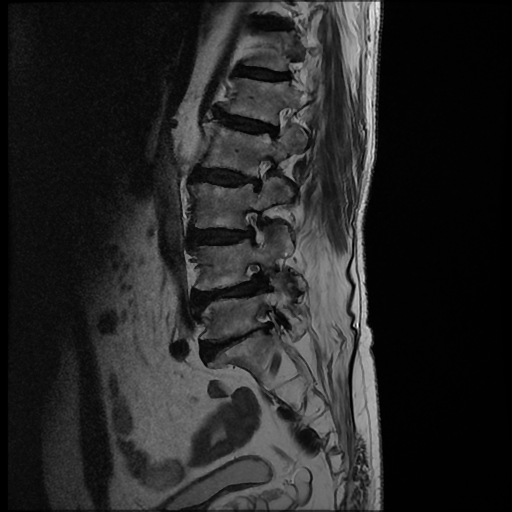RFS1: (233, 200, 269, 254)
